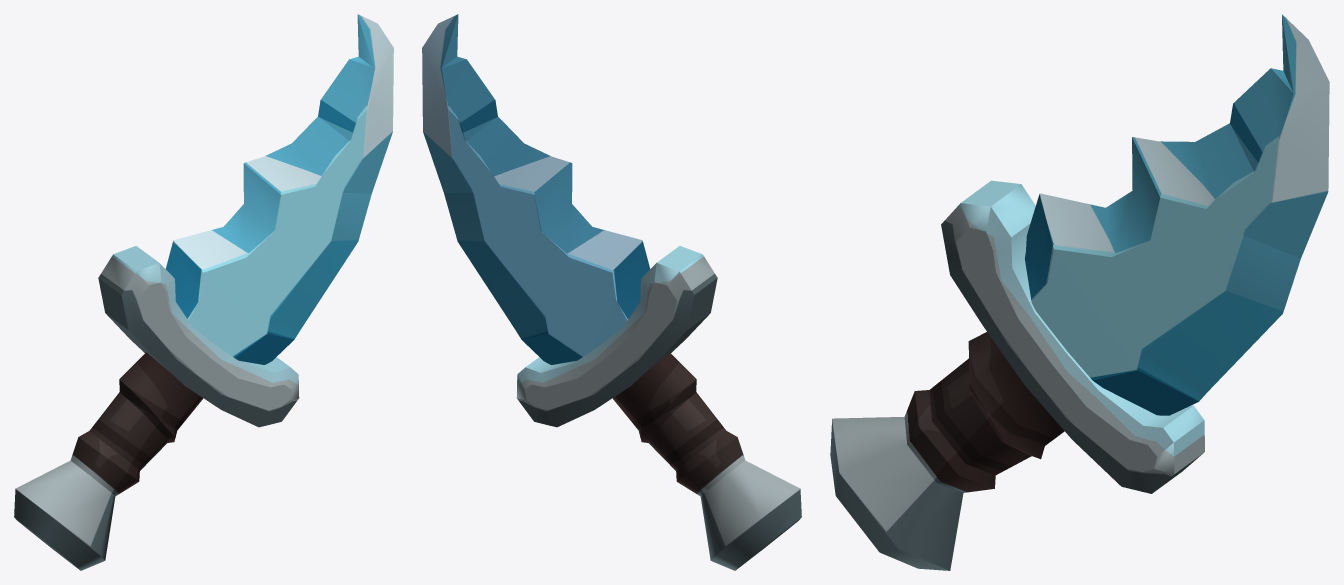
The model's file is antiquity ice_02.FBX.
The picture shows the model from 3 angles, left to right: view 1: azimuth 30°, elevation 25°; view 2: azimuth 150°, elevation 25°; view 3: azimuth 330°, elevation 25°; orthographic projection. The views are drawn at different scales.
Visible parts, largest first — view 1: antiquity ice_02; view 2: antiquity ice_02; view 3: antiquity ice_02.
Boxes of the visible parts, x1,y1,x2,y2 form: antiquity ice_02: (14, 14, 393, 570); antiquity ice_02: (422, 14, 801, 570); antiquity ice_02: (830, 14, 1329, 570).
Bounding box in the file's own units: 58.88 × 72.51 × 9.14.
